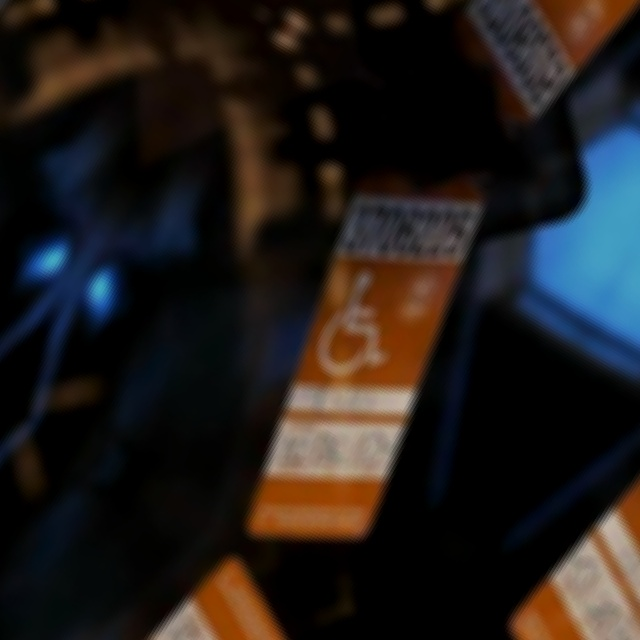ISA: (306, 265, 419, 392), (531, 0, 640, 16), (636, 463, 640, 589)
